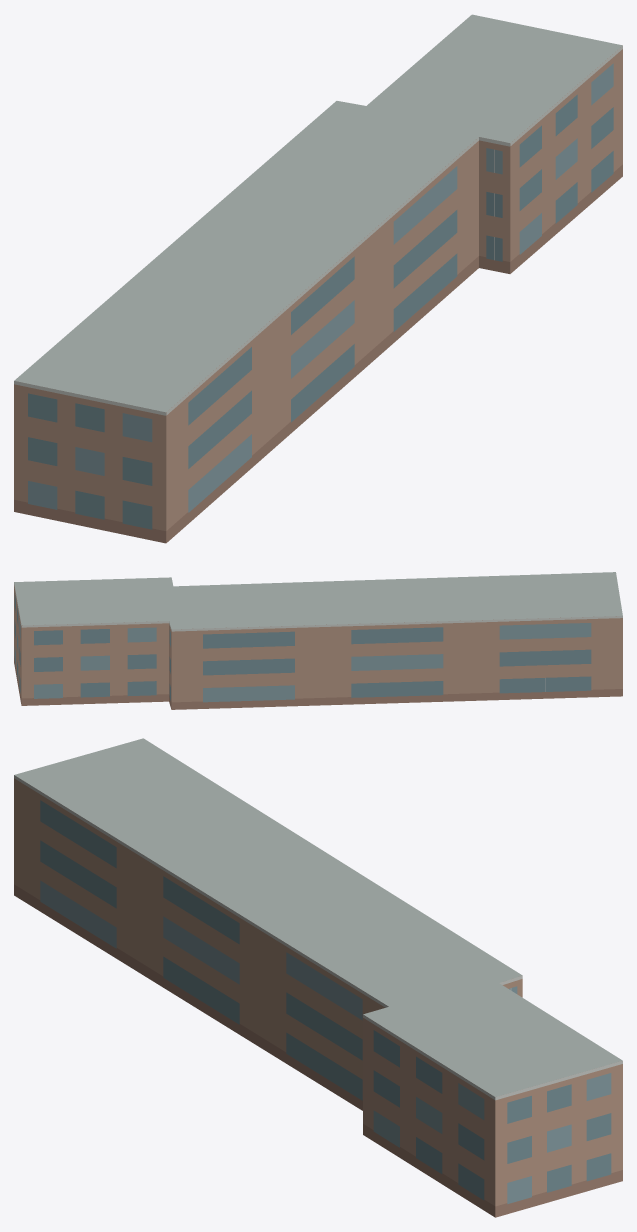
The model's file is survey-upis-32588552.glb.
The picture shows the model from 3 angles, top to bottom: view 1: azimuth 30°, elevation 25°; view 2: azimuth 150°, elevation 25°; view 3: azimuth 270°, elevation 25°; orthographic projection. The views are drawn at different scales.
Parts seen in each view (by area): view 1: survey-upis-32588552.tmp; view 2: survey-upis-32588552.tmp; view 3: survey-upis-32588552.tmp.
Boxes of the visible parts, box(x1,y1,x2,y2) form: survey-upis-32588552.tmp: box(14, 14, 622, 543); survey-upis-32588552.tmp: box(14, 572, 622, 709); survey-upis-32588552.tmp: box(14, 738, 622, 1217).
Size of the model in its own units: 58.48 by 9.15 by 41.93.
